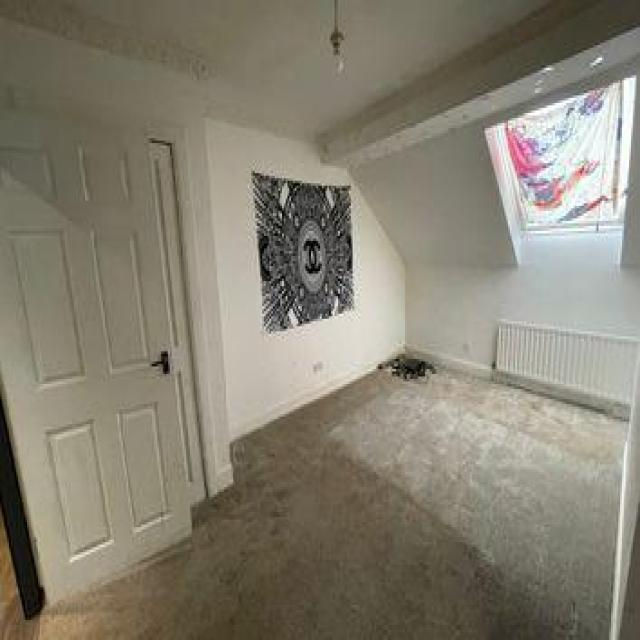Wall: (34, 359, 624, 639), (351, 68, 640, 370), (66, 0, 549, 140), (206, 118, 405, 440), (319, 0, 640, 162), (0, 18, 203, 122), (0, 508, 39, 639)
